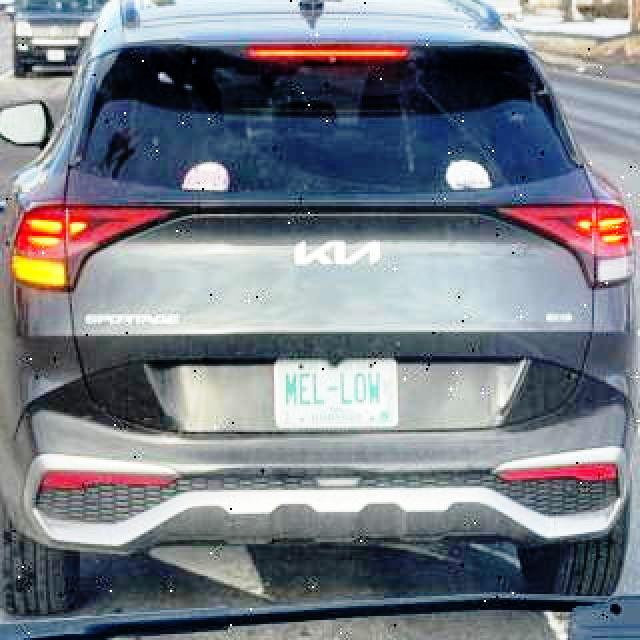license_plate: (280, 360, 401, 424)
